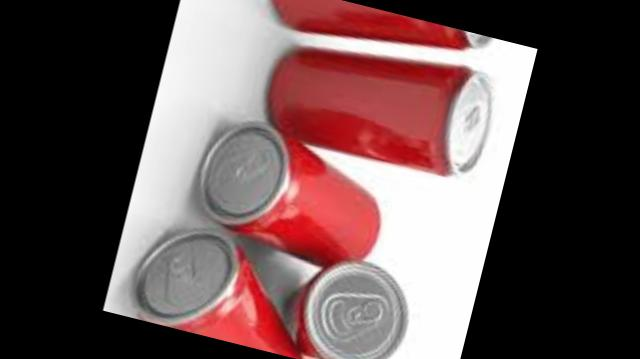metal: (272, 51, 494, 178), (203, 125, 382, 268), (139, 233, 303, 359), (276, 0, 495, 52)
